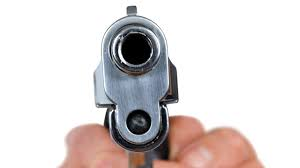gun: (92, 4, 204, 168)
